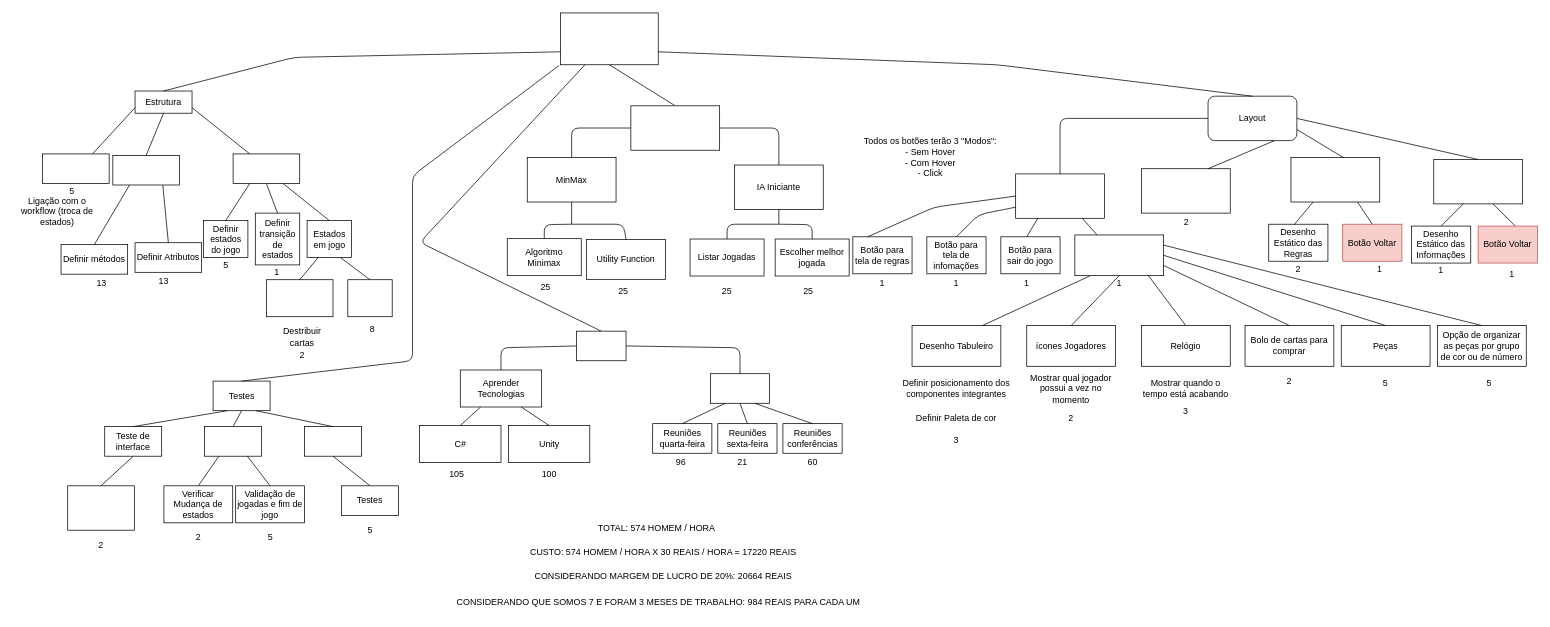
Some shapes in this 1550 by 627 pixel diagram are drawn without their labels. The shapes that lost their labels are listed below. From the top down, each one's centre as x and y in pixels, then its label:
At (x=609, y=38): "RumikUFF".
At (x=675, y=127): "IA".
At (x=75, y=168): "Tratar eventos interface".
At (x=145, y=170): "Criar classes do jogo".
At (x=266, y=168): "Workflow".
At (x=1335, y=179): "Tela Regras".
At (x=1478, y=181): "Tela Informações".
At (x=1059, y=195): "Tela Menu Prncipal".
At (x=1185, y=190): "Tela Loading".
At (x=1119, y=255): "Botão Jogar".
At (x=299, y=298): "Setar estado inicial do jogo".
At (x=369, y=298): "Validar jogadas / Venceu".
At (x=601, y=345): "Gestão".
At (x=740, y=388): "Reuniões pós aulas".
At (x=233, y=441): "Teste de estrutura".
At (x=332, y=441): "Teste de IA".
At (x=100, y=507): "Verificação de funcionamento de sprites".
